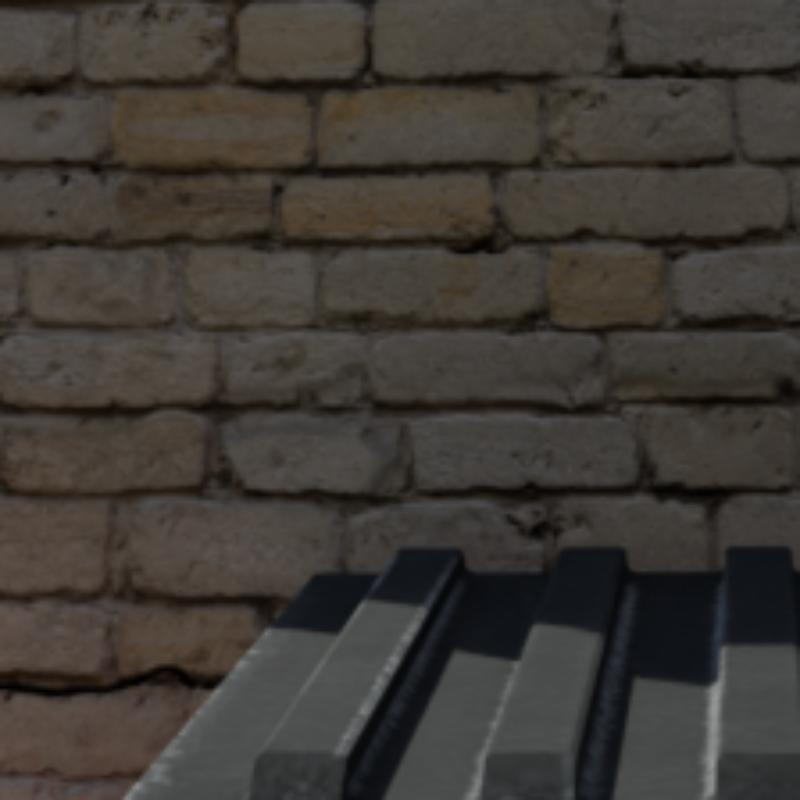pothole: (0, 667, 221, 697)
